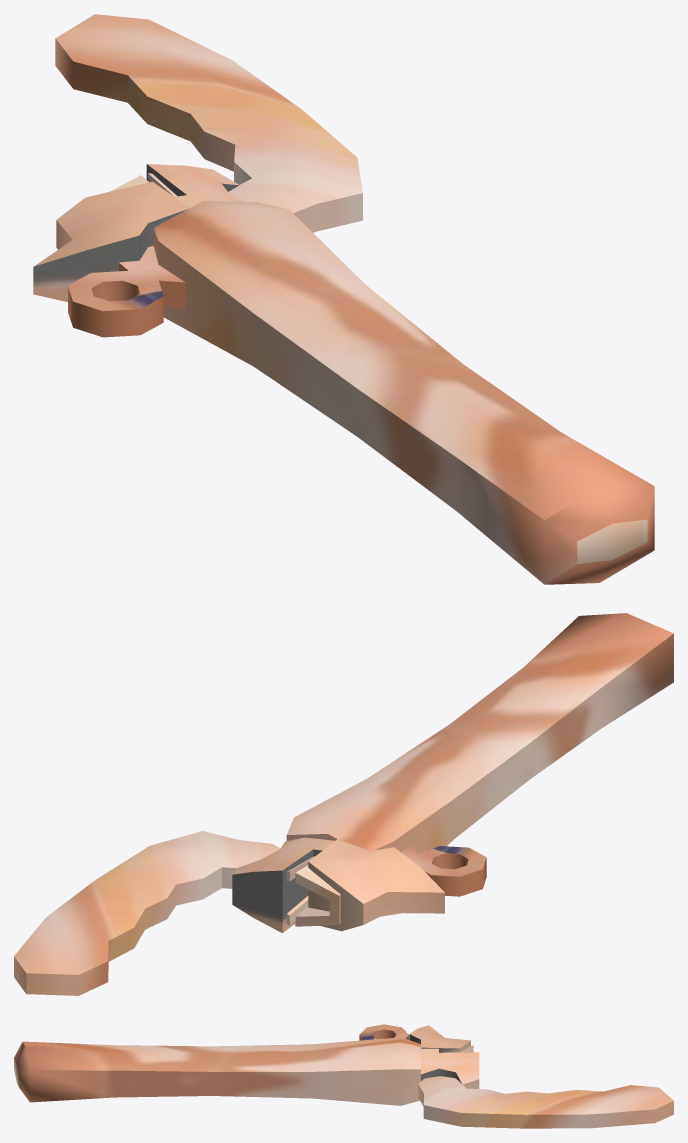
Rendered from change_yorimitsu_gimmick_sword.glb.
3 renders of one model, top to bottom at view 1: azimuth 30°, elevation 25°; view 2: azimuth 150°, elevation 25°; view 3: azimuth 270°, elevation 25°, orthographic. The views are drawn at different scales.
Size of the model in its own units: 0.1436 by 0.0403 by 0.4445.
1 material, 1 textured.
